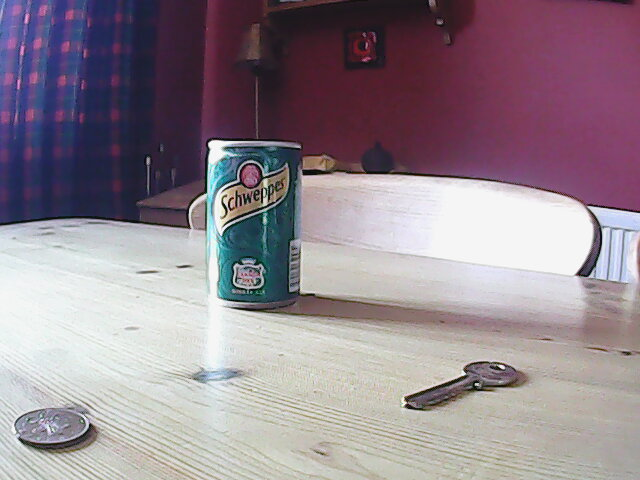Can: (200, 137, 307, 311)
Coin: (10, 406, 91, 453)
Key: (397, 359, 521, 414)
